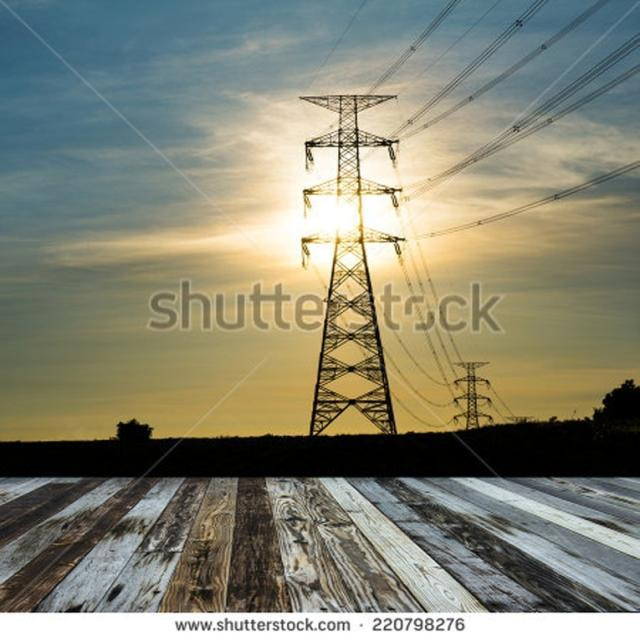non-critical vegetation: (284, 81, 414, 460), (440, 354, 496, 446)
